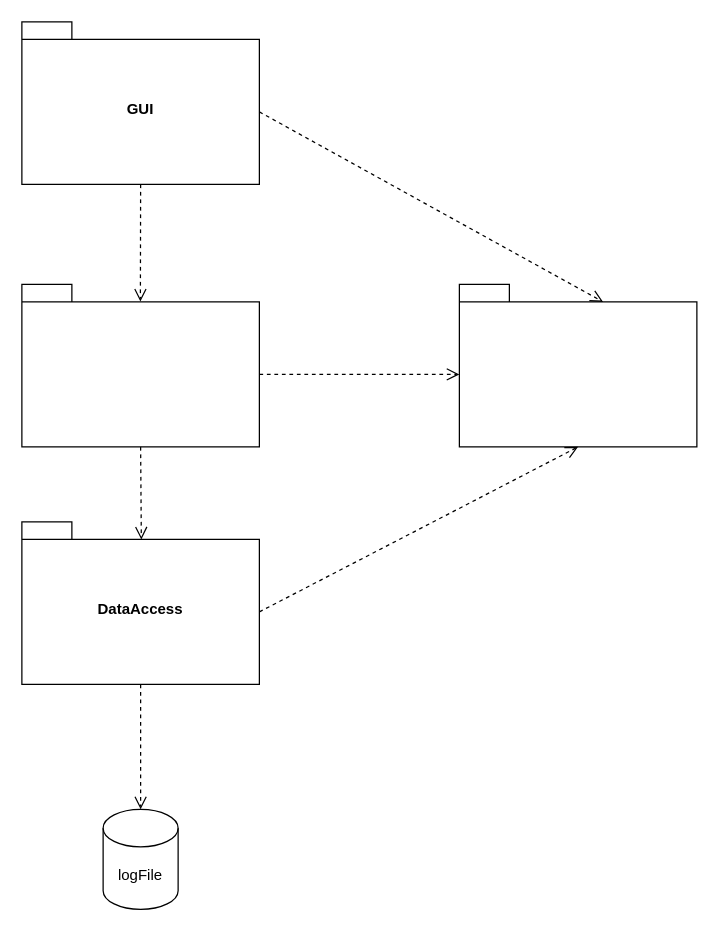
Image size: 719x931. Some labels were removed from this diagram. The centre of each missing label's shape, as x and y in pixels:
BusinessLogic: pixel 140 365
DataModel: pixel 577 365
